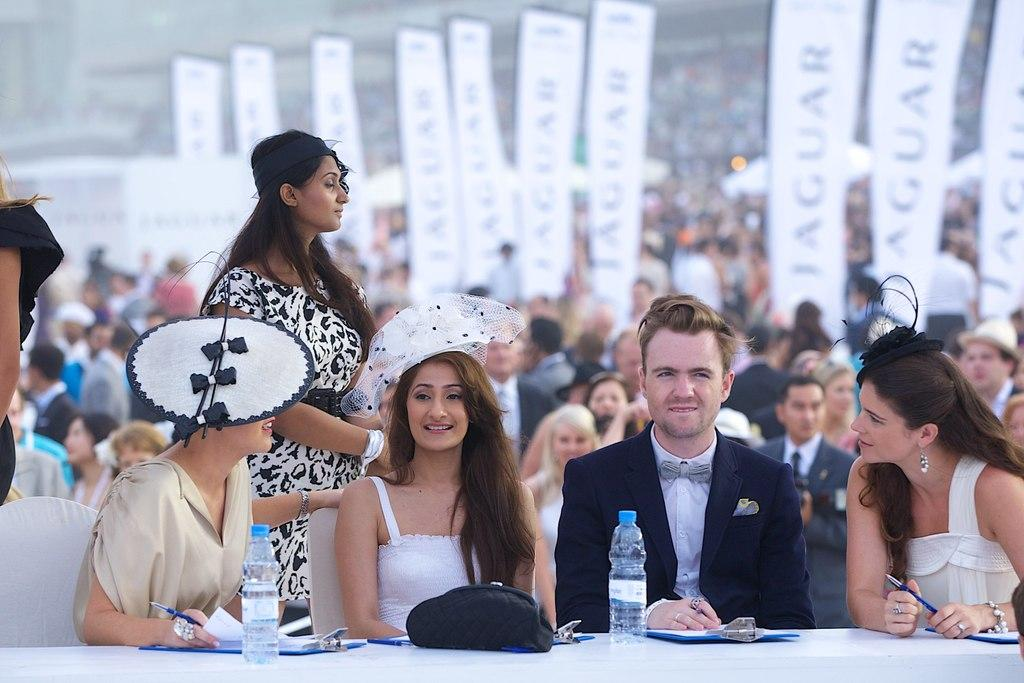Hat: (126, 312, 316, 435), (344, 292, 526, 414)
